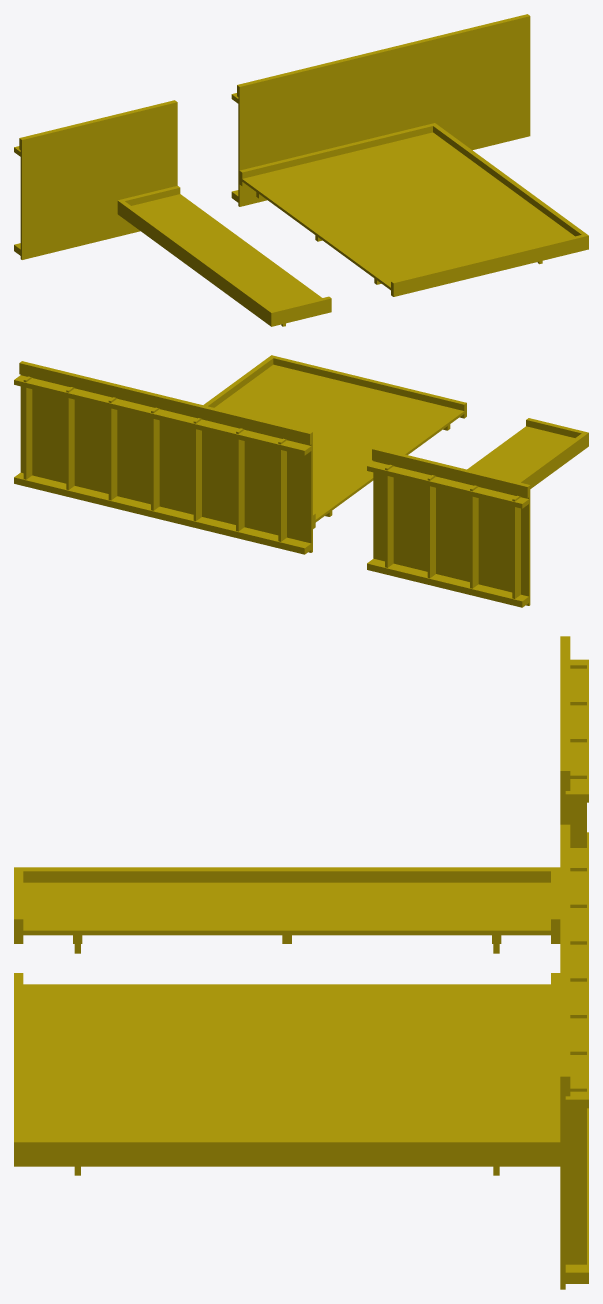
3 views of the same model, one above another, from view 1: azimuth 30°, elevation 25°; view 2: azimuth 150°, elevation 25°; view 3: azimuth 270°, elevation 25° (orthographic). The views are drawn at different scales.
Parts seen in each view (by area): view 1: platforms; view 2: platforms; view 3: platforms.
Boxes of the visible parts, x1,y1,x2,y2 form: platforms: (14,14,588,326); platforms: (14,355,588,607); platforms: (14,636,588,1289).
Bounding box in the file's own units: 2 × 0.4512 × 1.1.
